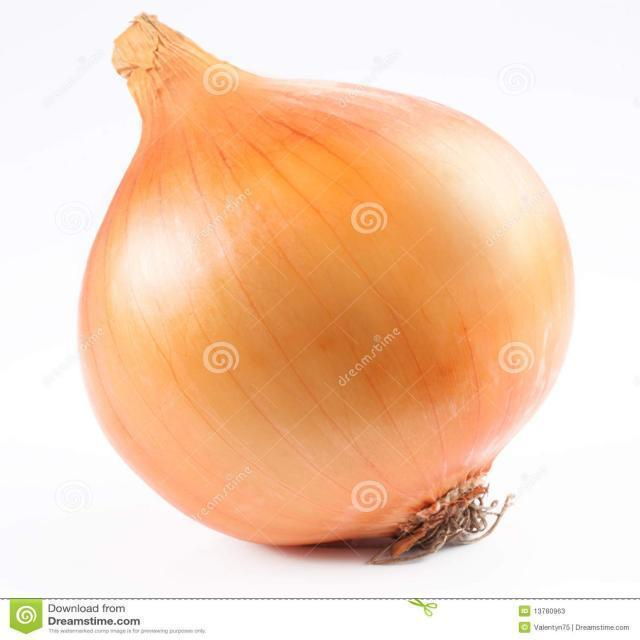Onion: (78, 10, 575, 565)
